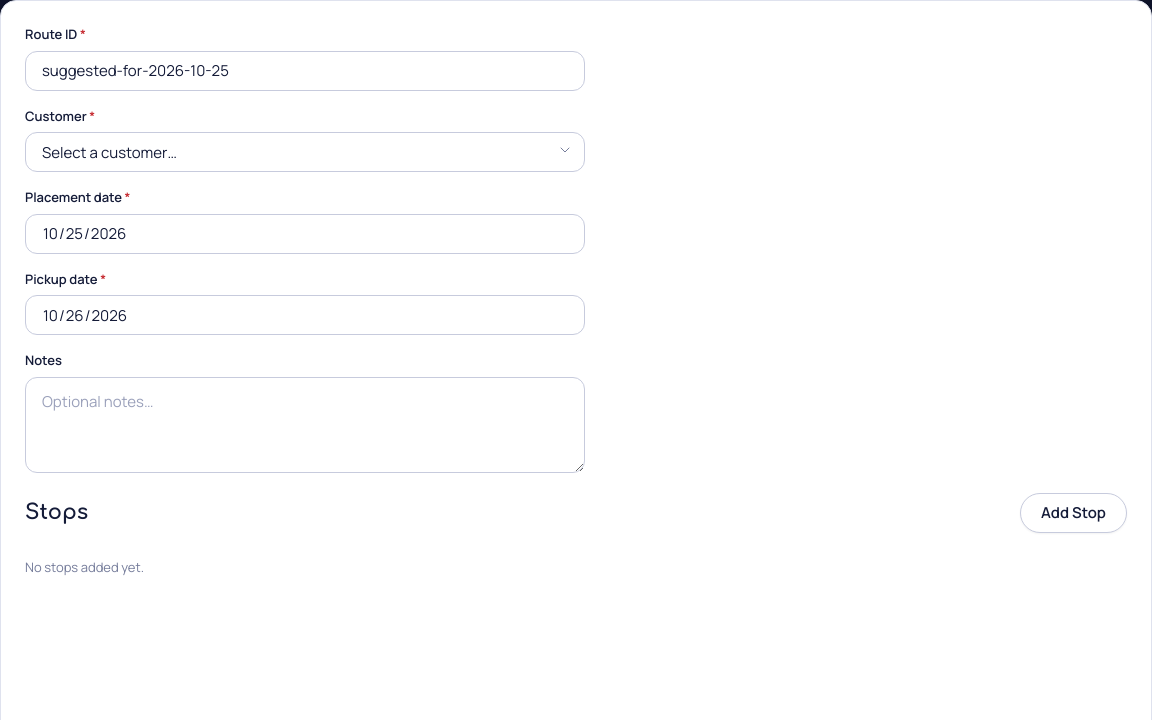
RouteForm › suggested Route Code › follows the Placement Date
Step 1. Type "2027-01-01" into the date field labelled "Placement date *" → (305,234), box x1=25 y1=214 x2=585 y2=254
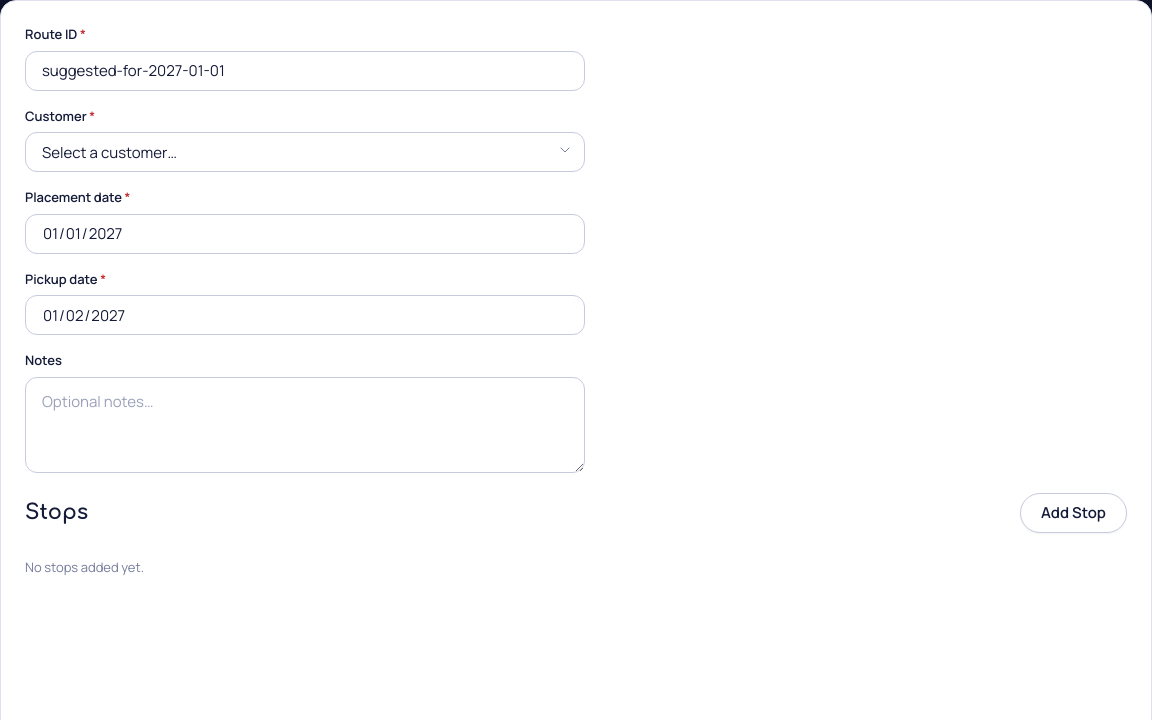
Expected: the field labelled "Route ID *" holds "suggested-for-2027-01-01", x1=25 y1=50 x2=585 y2=90
Step 2. Type "2026-12-31" into the date field labelled "Placement date *" → (305,234), box x1=25 y1=214 x2=585 y2=254
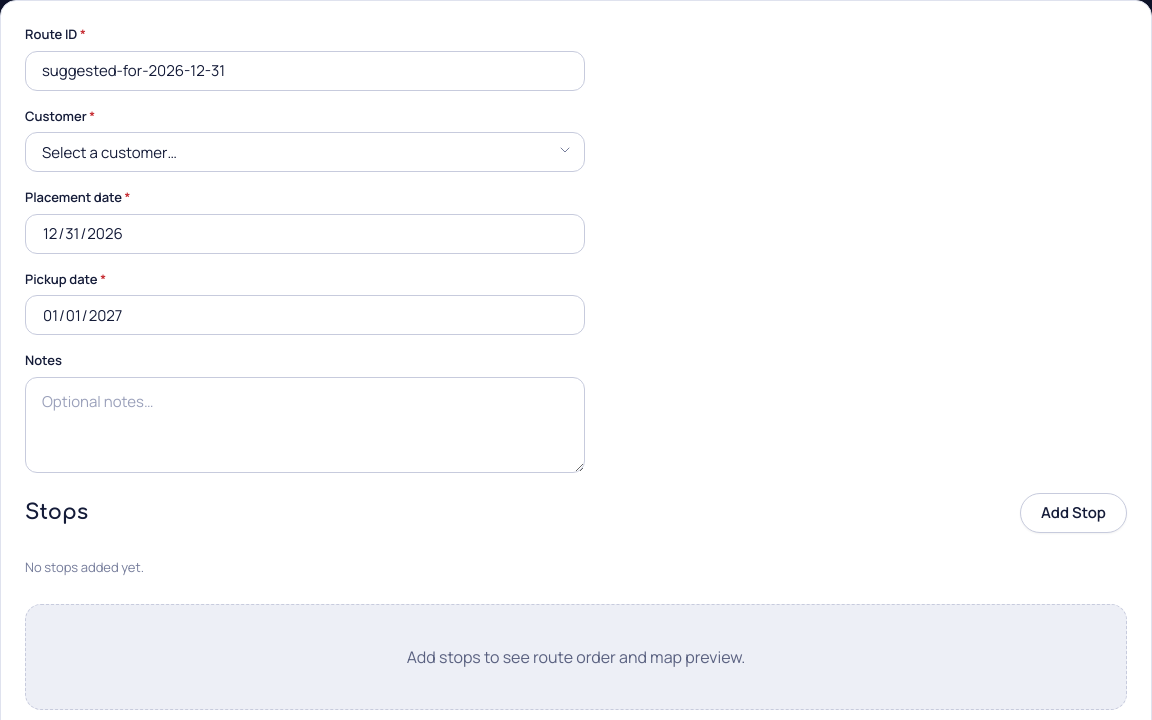
Expected: the field labelled "Route ID *" holds "suggested-for-2026-12-31", x1=25 y1=50 x2=585 y2=90
